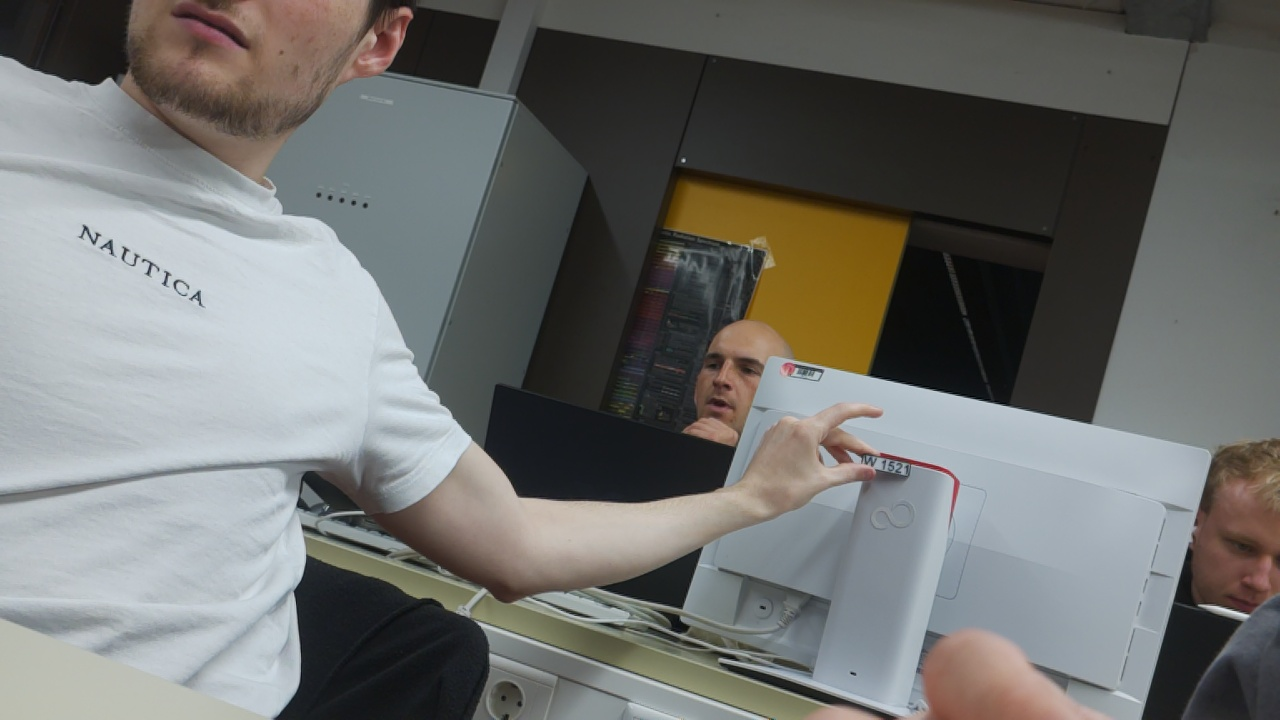license_plate: (859, 450, 915, 482)
